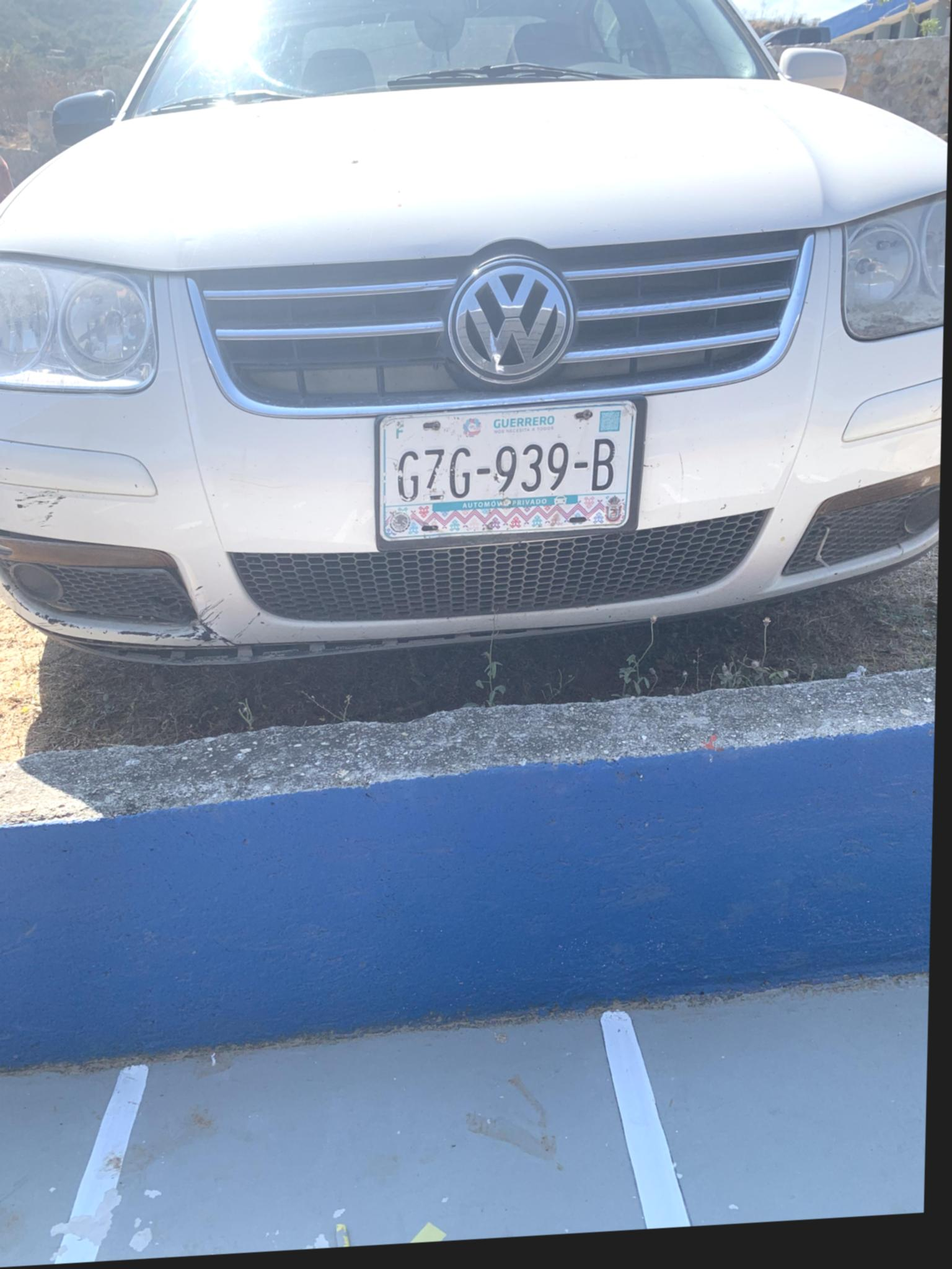License_Plate: (348, 379, 652, 551)
